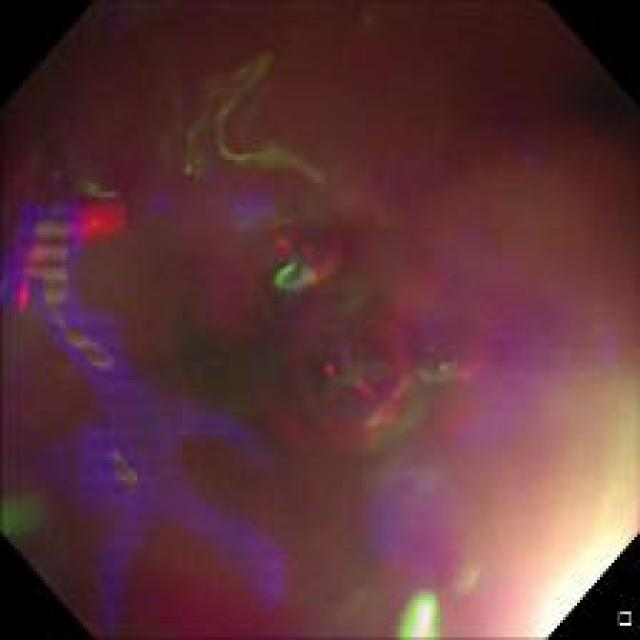color misalignment: (9, 8, 625, 632), (6, 192, 290, 609), (256, 220, 556, 464), (168, 49, 345, 198), (339, 424, 474, 586), (392, 572, 450, 638)
